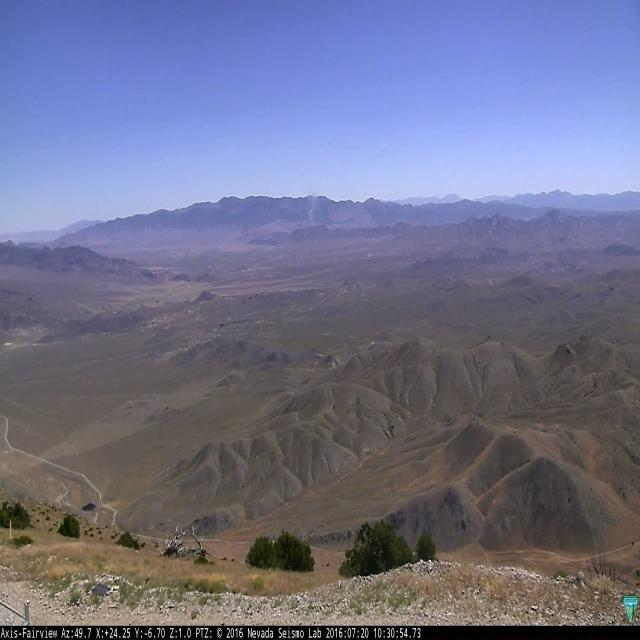smoke: (309, 194, 316, 224)
